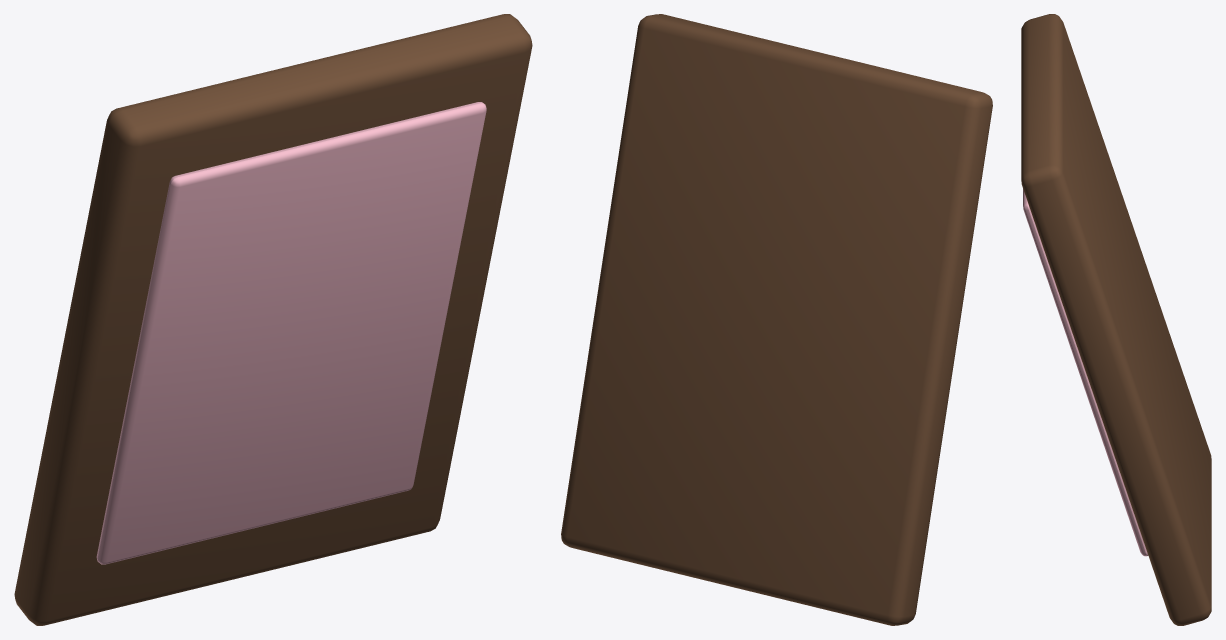
File: photo.glb
3 views of the same model, side by side, from view 1: azimuth 30°, elevation 25°; view 2: azimuth 150°, elevation 25°; view 3: azimuth 270°, elevation 25° (orthographic). The views are drawn at different scales.
Parts seen in each view (by area): view 1: pic, frame; view 2: frame; view 3: frame, pic.
Part boxes in pixels (left/top/right/bottom): pic: left=96, top=102, right=486, bottom=564; frame: left=14, top=14, right=532, bottom=625; frame: left=561, top=14, right=992, bottom=625; frame: left=1021, top=14, right=1211, bottom=625; pic: left=1023, top=189, right=1148, bottom=556.
Bounding box in the file's own units: 0.13 × 0.1742 × 0.0653.
